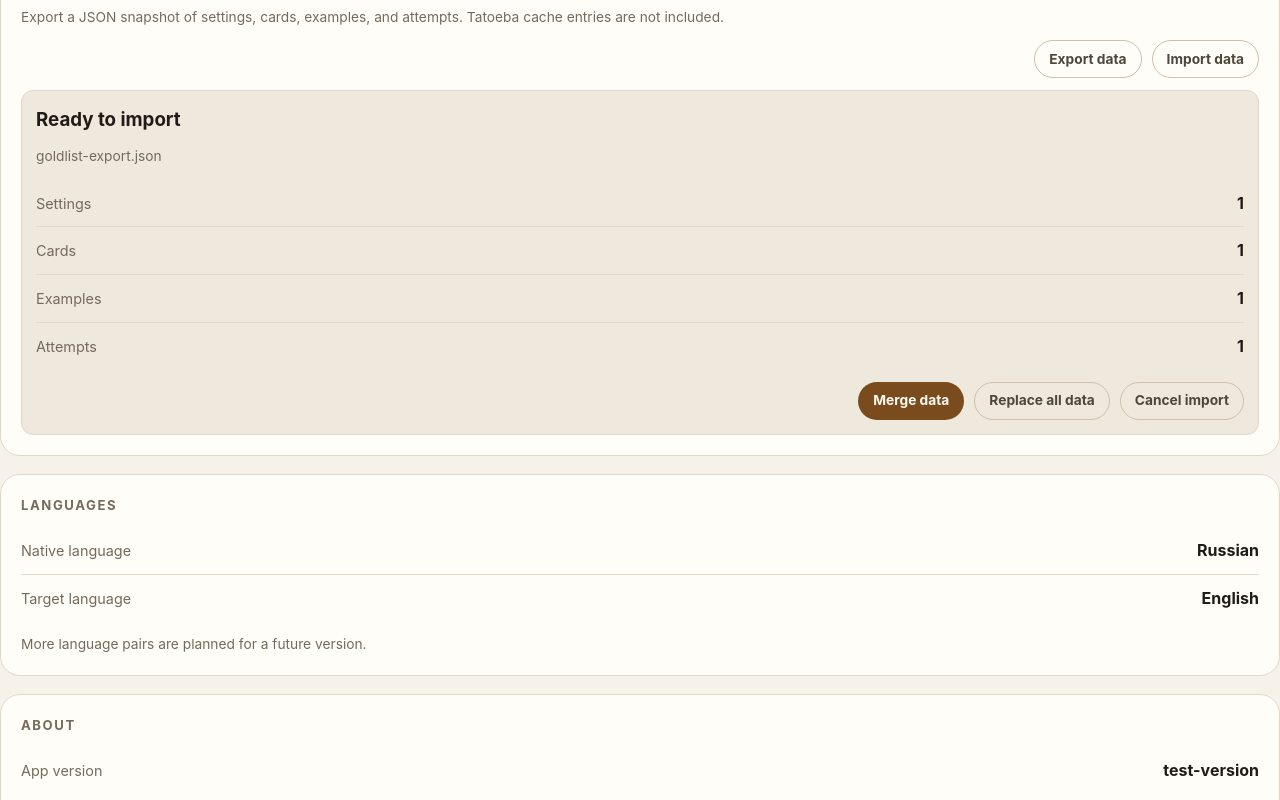
Scenario: SettingsPage › requires confirmation and downloads a backup before replacing data
The width and height of the screenshot is (1280, 800).
Earlier steps of the test are not shown.
(page scrolled)
Expected: the heading "Ready to import" is shown, top-left (36, 108), bottom-right (181, 131)
Step 1. Click the button "Replace all data" → (1042, 401), box top-left (974, 382), bottom-right (1110, 420)
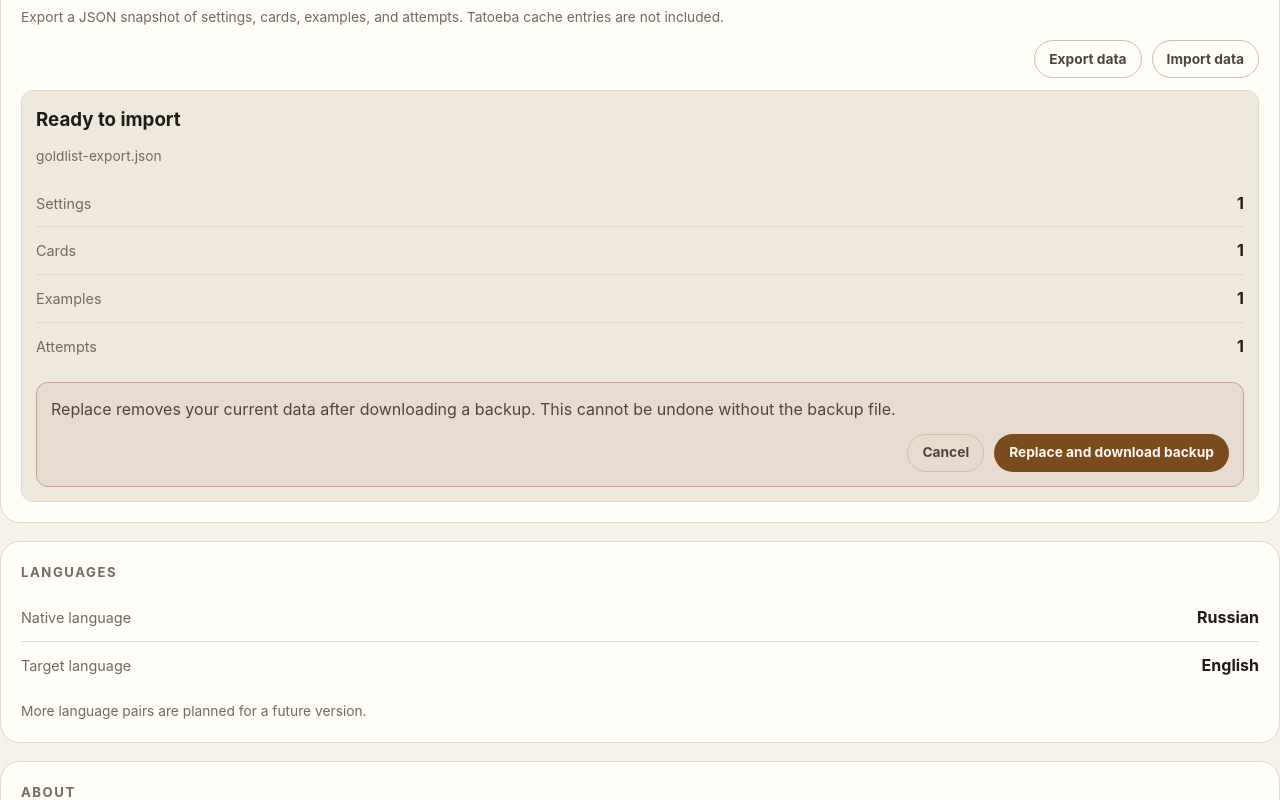
Expected: the dialog named "Replace all data?" is shown, top-left (36, 382), bottom-right (1244, 487)
Step 2. Click the button "Replace and download backup" → (1112, 453), box top-left (994, 434), bottom-right (1229, 472)
(page scrolled)
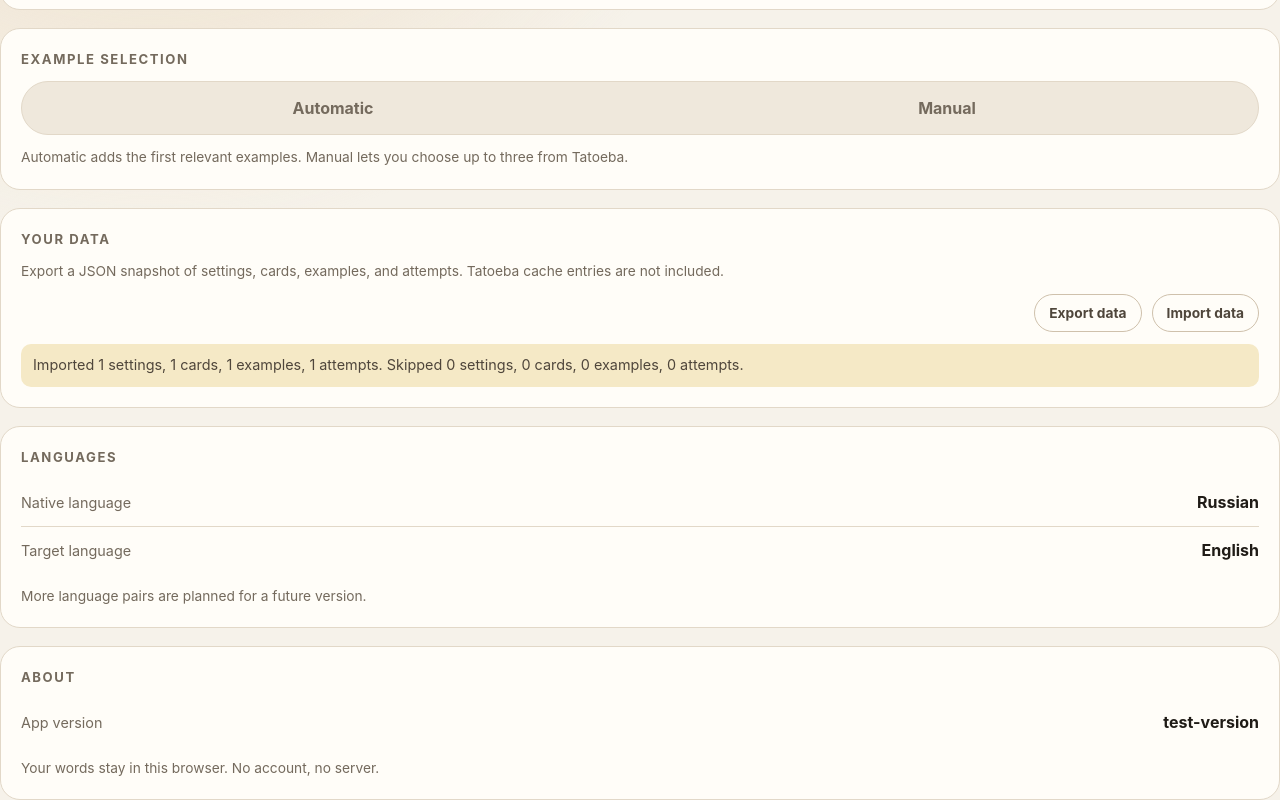
Expected: the text "Imported 1 settings, 1 cards, 1 examples, 1 attempts" is shown, top-left (33, 356), bottom-right (744, 373)
